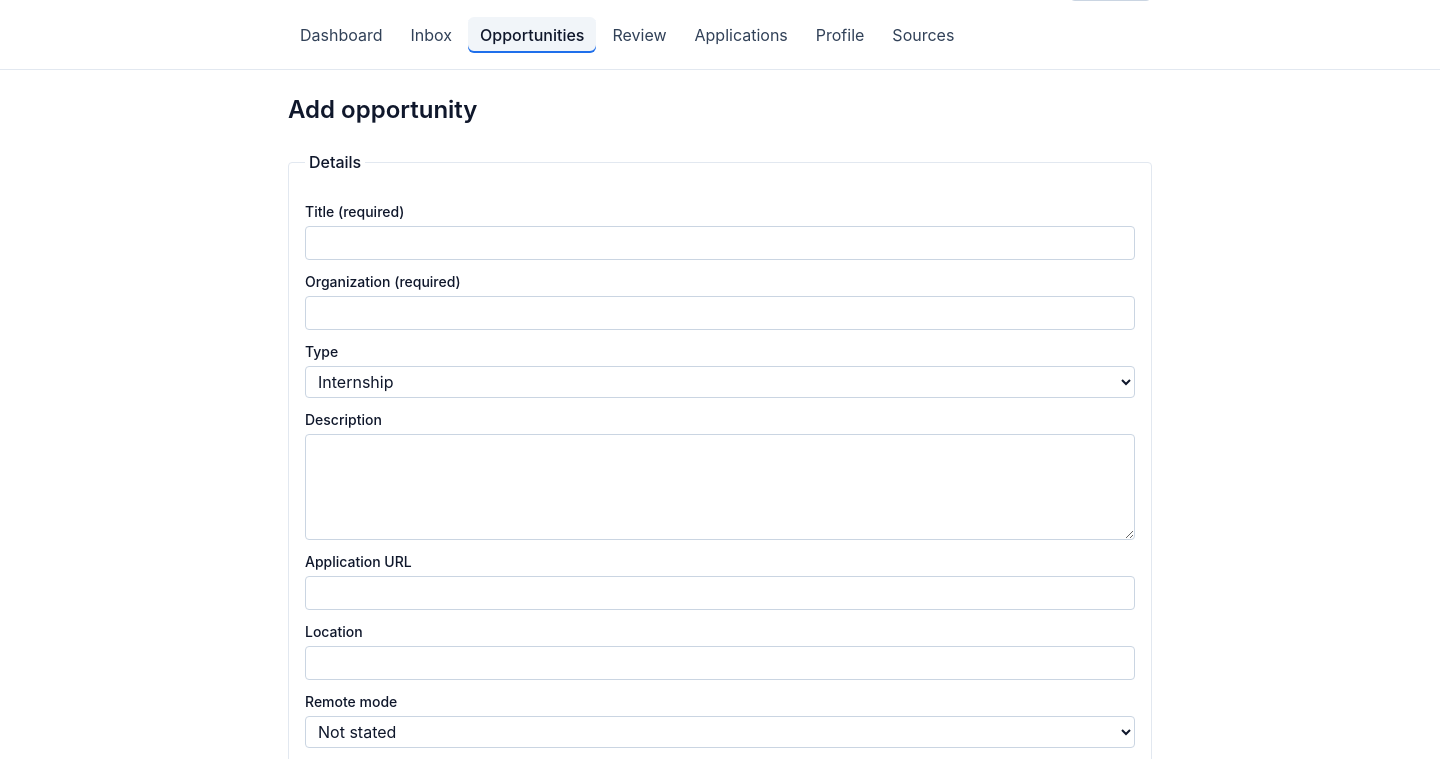
Test: manual opportunity form › shows requirement validation errors from the backend
Step 1. Type "Synthetic Program" into the field labelled "Title (required)" → coordinates (720, 243), box [305,226,1135,260]
(page scrolled)
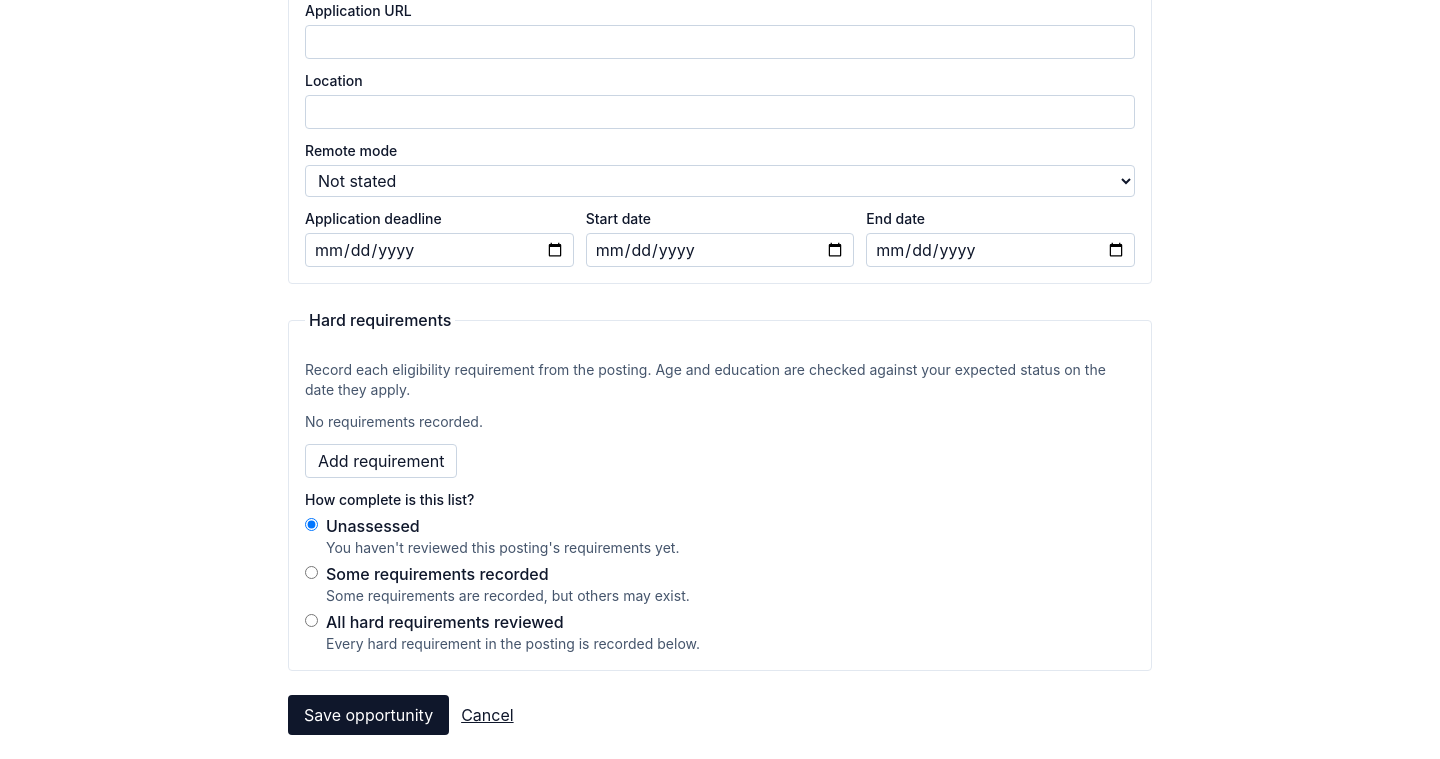
Step 2. Click the button "Save opportunity" → coordinates (369, 715), box [288,695,449,735]
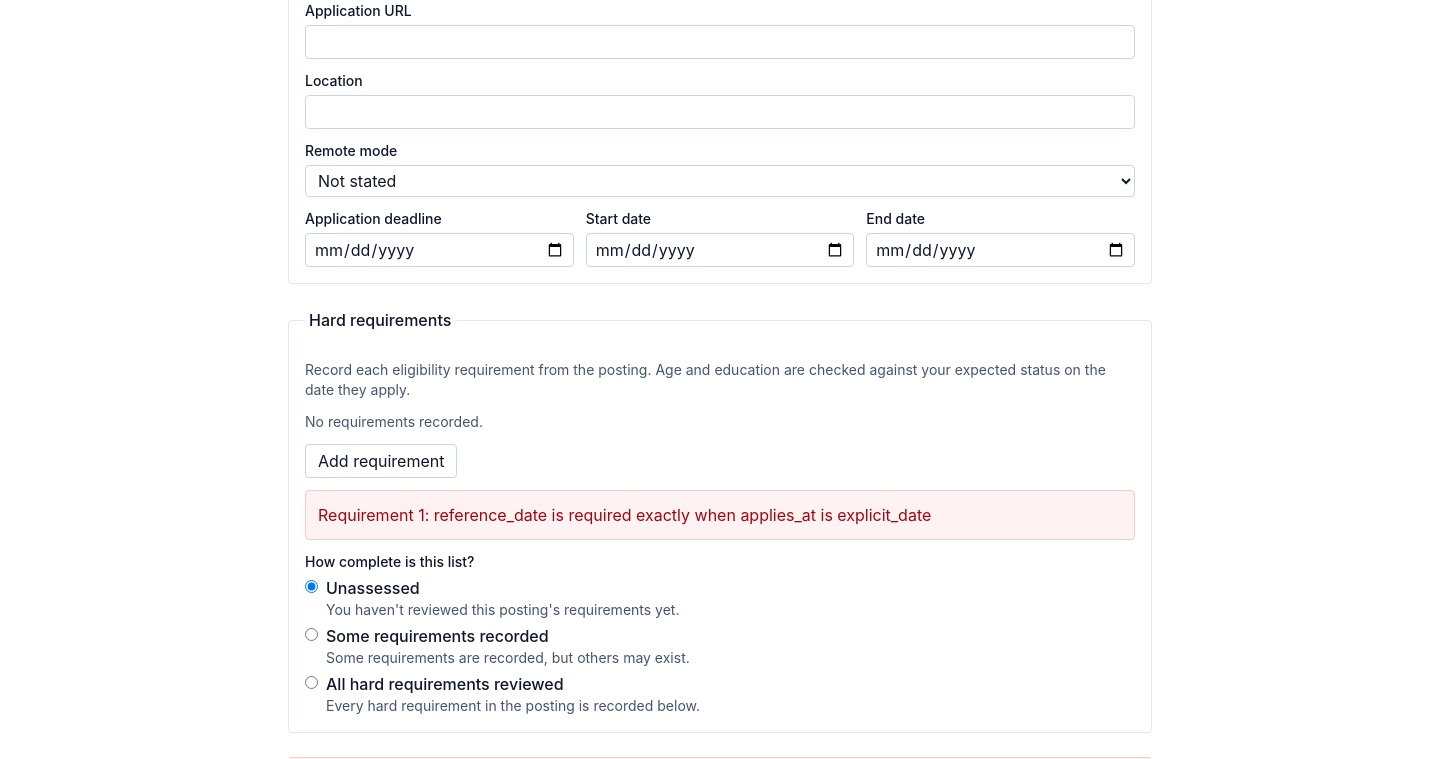
Result: the text "Requirement 1: reference_date is required" is shown at [318,505,931,525]
